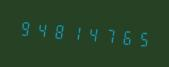eight: (51, 17, 67, 45)
five: (136, 24, 152, 52)
four: (34, 15, 50, 43), (85, 20, 101, 48)
nine: (17, 14, 33, 42)
one: (68, 18, 84, 46)
seven: (102, 21, 118, 49)
six: (119, 23, 135, 51)
